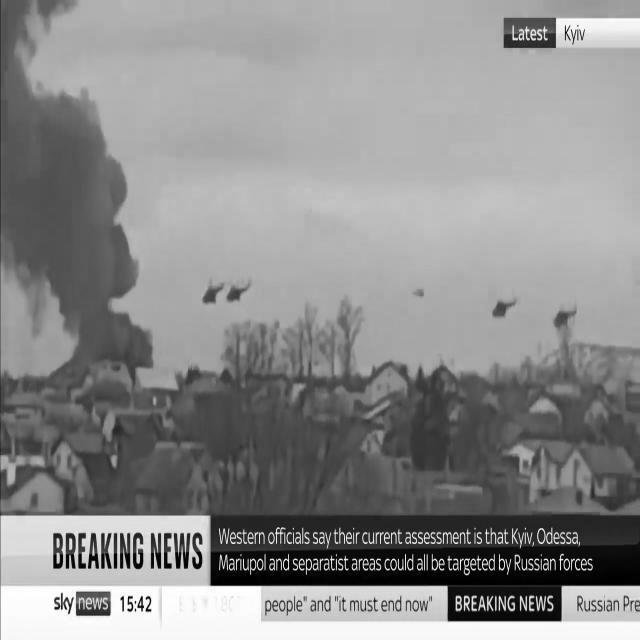helikopter: (192, 268, 260, 326), (484, 276, 525, 340), (546, 288, 590, 347)
